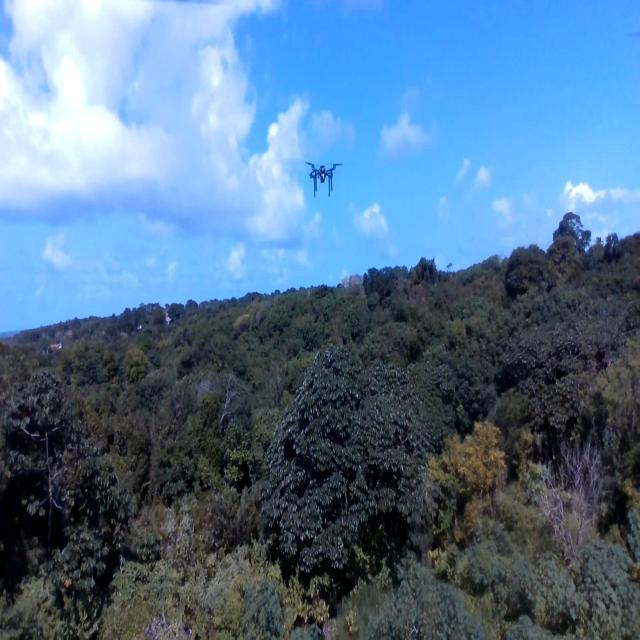-uav-: (299, 148, 346, 213)
